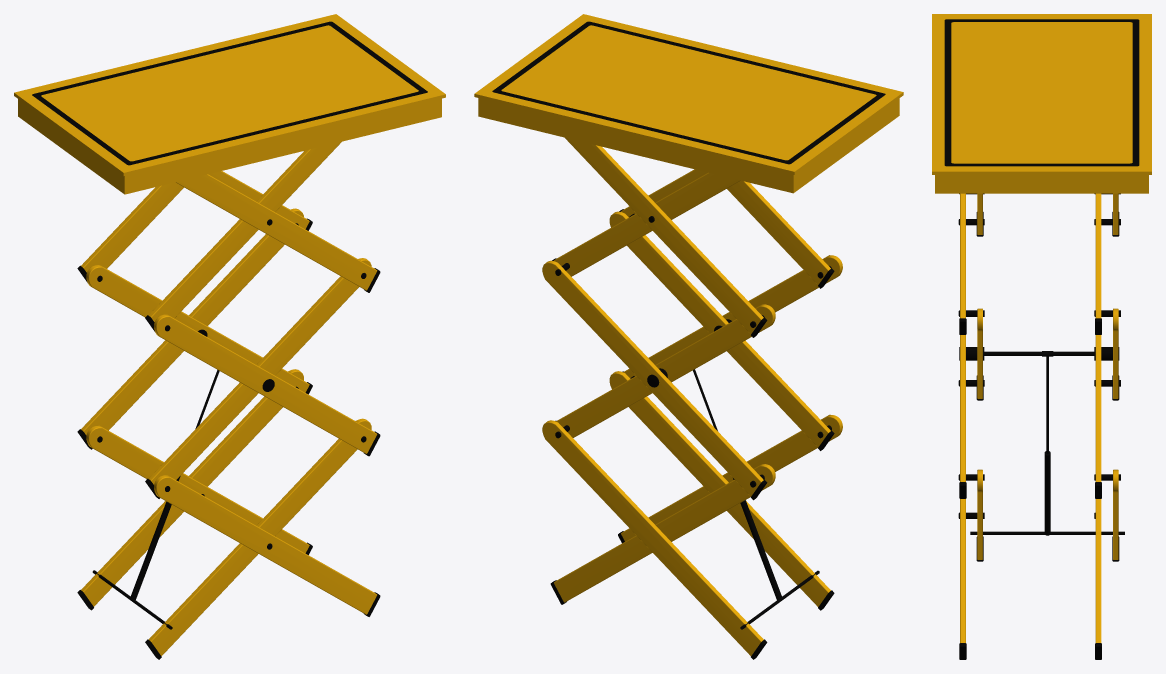
The picture shows the model from 3 angles, left to right: view 1: azimuth 30°, elevation 25°; view 2: azimuth 150°, elevation 25°; view 3: azimuth 270°, elevation 25°; orthographic projection.
Visible parts, largest first — view 1: polySurface154; view 2: polySurface154; view 3: polySurface154.
Part boxes in pixels (x1,y1,x2,y2): polySurface154: [14, 14, 445, 659]; polySurface154: [474, 14, 903, 659]; polySurface154: [932, 14, 1151, 659].
Bounding box in the file's own units: 206 × 316 × 121.
